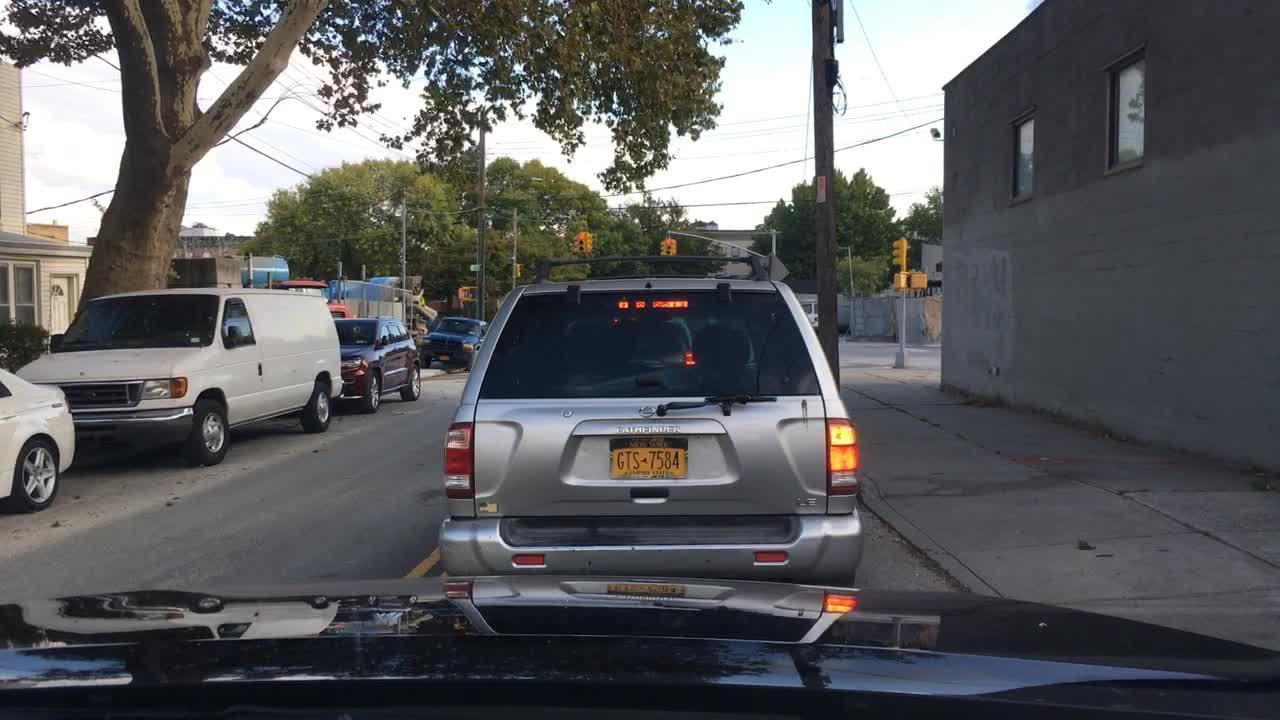Nissan: (634, 399, 660, 426)
